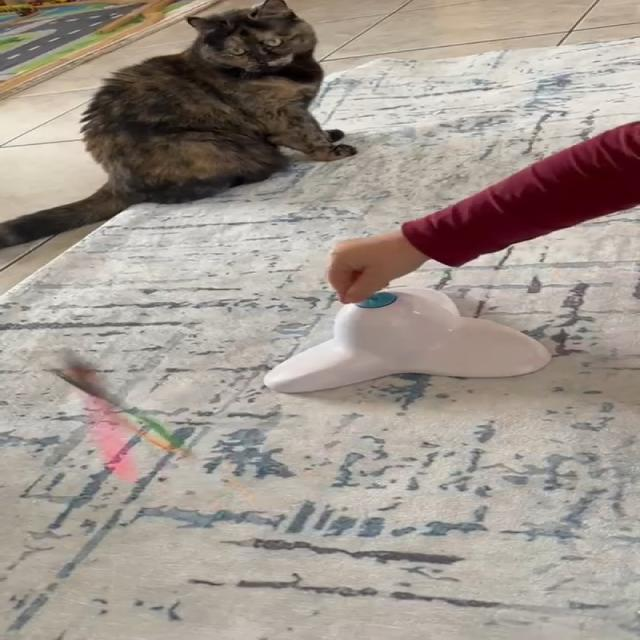authorized: (0, 0, 357, 249)
